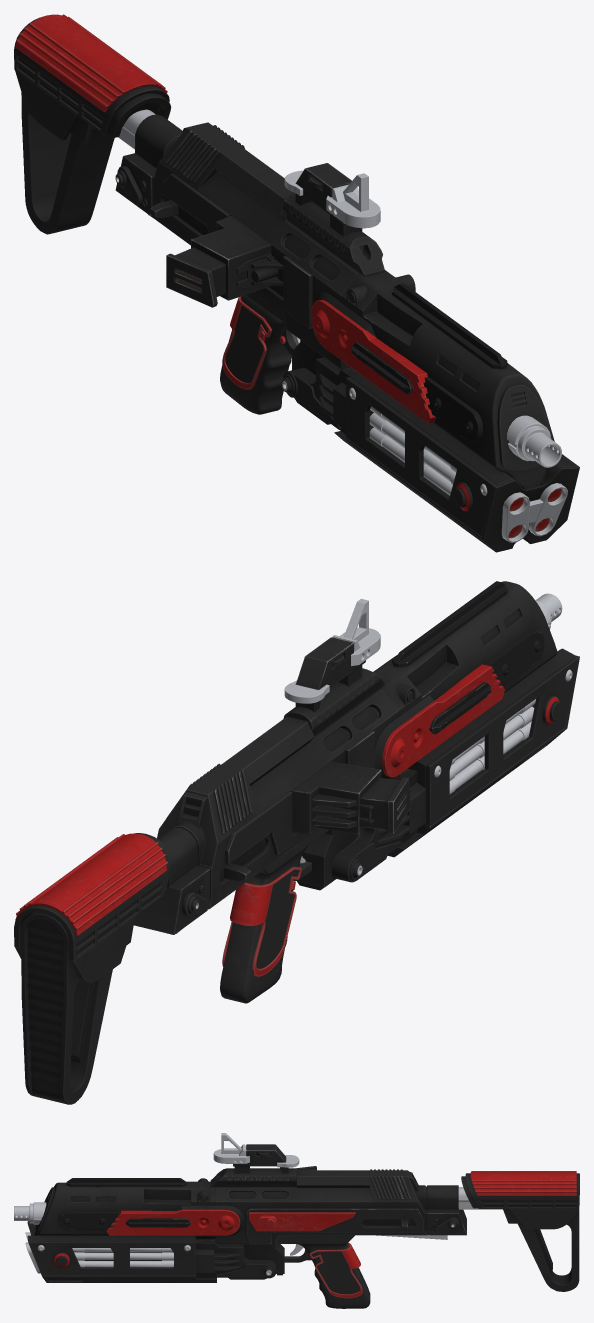
File: orange_laser_gun.gltf
3 views of the same model, one above another, from view 1: azimuth 30°, elevation 25°; view 2: azimuth 150°, elevation 25°; view 3: azimuth 270°, elevation 25° (orthographic). The views are drawn at different scales.
Visible parts, largest first — view 1: Corpus_Low_Poly_6, CorpusF_Low_Poly_7, butt1_Low_Poly_0, butt_red_Low_Poly_3, Proton_Torpedo_lounher_Detail_Low_Poly_31, Detail4_Low_Poly_10, overlay3_Low_Poly_27, scope_Low_Poly_35, butt_Low_Poly_2, handle_Low_Poly_21, overlay2_Low_Poly_26, Proton_Torpedo_lounher_Low_Poly_32 (+16 smaller); view 2: Corpus_Low_Poly_6, butt1_Low_Poly_0, CorpusF_Low_Poly_7, Proton_Torpedo_lounher_Detail_Low_Poly_31, butt_red_Low_Poly_3, magazine_p_Low_Poly_24, Detail5_Low_Poly_11, scope_Low_Poly_35, overlay3_Low_Poly_27, Detail7_Low_Poly_13, handle_Low_Poly_21, overlay2_Low_Poly_26 (+12 smaller); view 3: Corpus_Low_Poly_6, CorpusF_Low_Poly_7, Proton_Torpedo_lounher_Detail_Low_Poly_31, Detail5_Low_Poly_11, overlay3_Low_Poly_27, overlay2_Low_Poly_26, Proton_Torpedo_lounher_Low_Poly_32, butt_red_Low_Poly_3, handle_Low_Poly_21, butt1_Low_Poly_0, Detail7_Low_Poly_13, scope_Low_Poly_35 (+16 smaller).
Boxes of the visible parts, x1,y1,x2,y2 form: Corpus_Low_Poly_6: (115,114,360,369); CorpusF_Low_Poly_7: (316,270,554,488); butt1_Low_Poly_0: (21,92,114,234); butt_red_Low_Poly_3: (15,14,167,112); Proton_Torpedo_lounher_Detail_Low_Poly_31: (346,377,577,536); Detail4_Low_Poly_10: (481,465,579,552); overlay3_Low_Poly_27: (311,299,436,423); scope_Low_Poly_35: (284,163,380,236); butt_Low_Poly_2: (14,17,171,138); handle_Low_Poly_21: (220,292,297,414); overlay2_Low_Poly_26: (163,173,312,328); Proton_Torpedo_lounher_Low_Poly_32: (334,373,572,549); Corpus_Low_Poly_6: (133,688,399,934); butt1_Low_Poly_0: (20,913,133,1104); CorpusF_Low_Poly_7: (373,581,557,778); Proton_Torpedo_lounher_Detail_Low_Poly_31: (426,657,577,825); butt_red_Low_Poly_3: (15,833,167,935); magazine_p_Low_Poly_24: (290,761,381,834); Detail5_Low_Poly_11: (296,768,426,890); scope_Low_Poly_35: (284,598,380,712); overlay3_Low_Poly_27: (382,664,504,777); Detail7_Low_Poly_13: (222,867,301,976); handle_Low_Poly_21: (220,828,329,1003); overlay2_Low_Poly_26: (225,731,374,864); Corpus_Low_Poly_6: (215,1169,466,1243); CorpusF_Low_Poly_7: (34,1178,244,1239); Proton_Torpedo_lounher_Detail_Low_Poly_31: (31,1241,195,1275); Detail5_Low_Poly_11: (195,1239,284,1279); overlay3_Low_Poly_27: (106,1209,240,1235); overlay2_Low_Poly_26: (246,1208,423,1243); Proton_Torpedo_lounher_Low_Poly_32: (30,1223,216,1282); butt_red_Low_Poly_3: (470,1171,576,1195); handle_Low_Poly_21: (276,1235,370,1308); butt1_Low_Poly_0: (503,1209,579,1291); Detail7_Low_Poly_13: (309,1242,362,1298); scope_Low_Poly_35: (213,1133,299,1173).
Bounding box in the file's own units: 11.62 × 20.96 × 62.58.
Materials: 5 (5 with a texture image).
